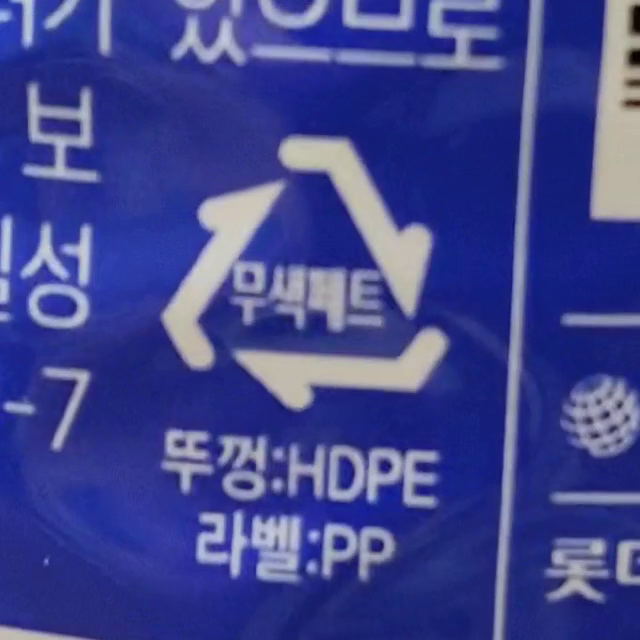ColorlessPet: (157, 140, 453, 415)
